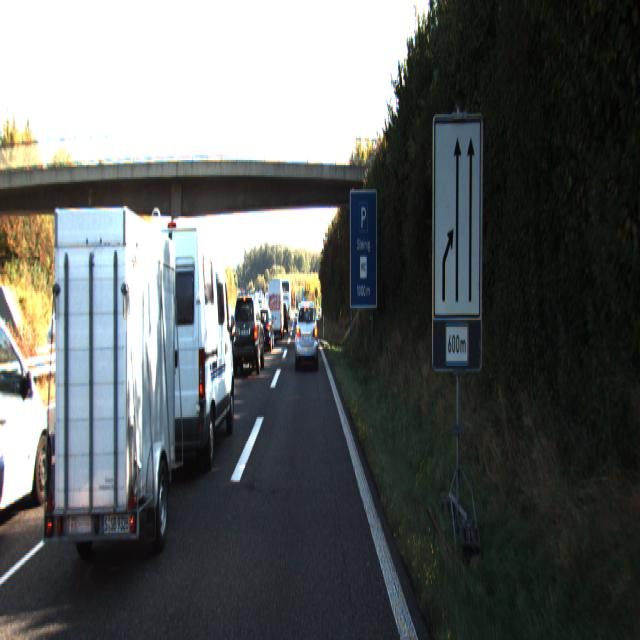Car: (39, 200, 186, 590), (136, 215, 236, 481), (0, 285, 60, 535), (232, 292, 264, 375), (294, 297, 318, 369), (267, 273, 284, 336), (255, 304, 275, 350)
